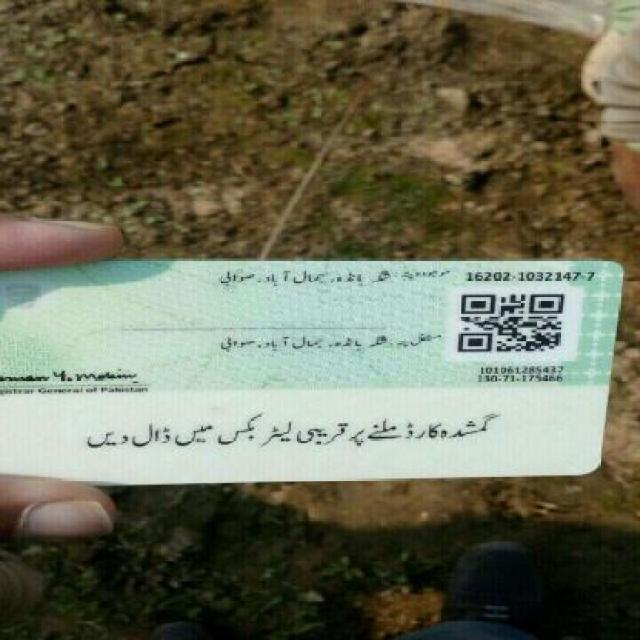Back: (5, 250, 623, 488)
